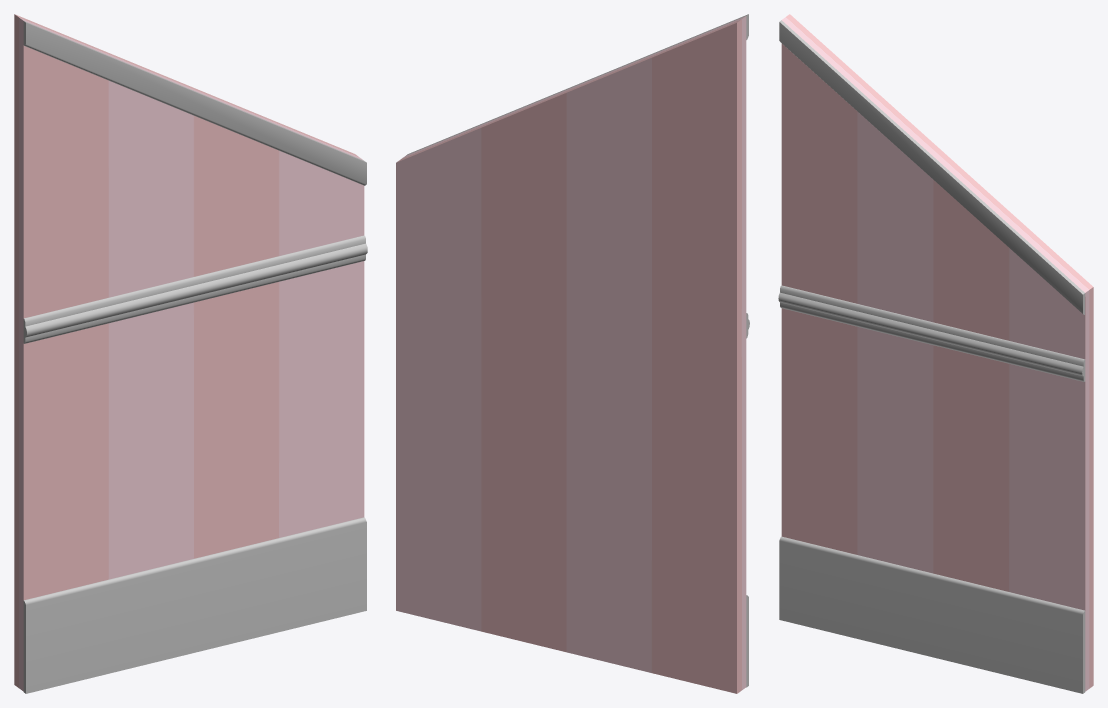
Rendered from Wall_Interior_Angled_3.fbx.
The picture shows the model from 3 angles, left to right: view 1: azimuth 30°, elevation 25°; view 2: azimuth 150°, elevation 25°; view 3: azimuth 330°, elevation 25°; orthographic projection. The views are drawn at different scales.
Visible parts, largest first — view 1: Wall_Interior_Angled; view 2: Wall_Interior_Angled; view 3: Wall_Interior_Angled.
Part boxes in pixels (x1,y1,x2,y2): Wall_Interior_Angled: (14, 14, 367, 693); Wall_Interior_Angled: (396, 14, 749, 693); Wall_Interior_Angled: (778, 14, 1093, 693).
Size of the model in its own units: 1 by 1.88 by 0.0649.
